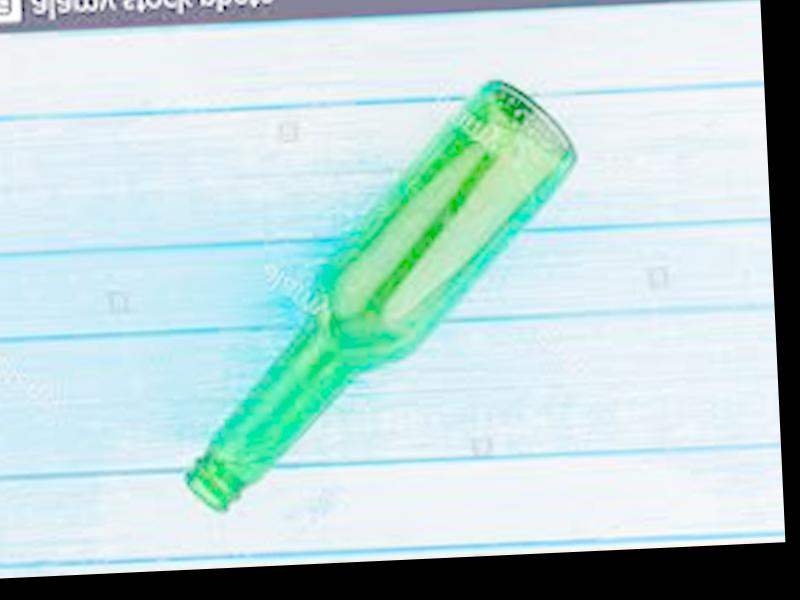Beer: (162, 69, 597, 516)
